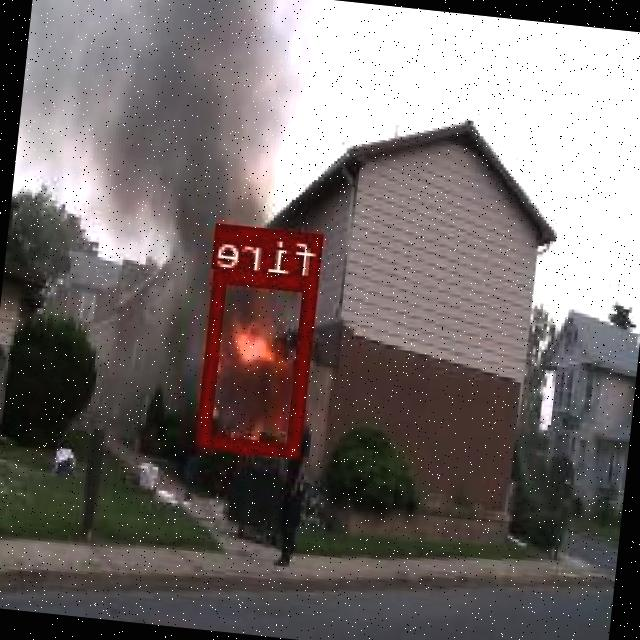fire: (198, 267, 319, 456)
